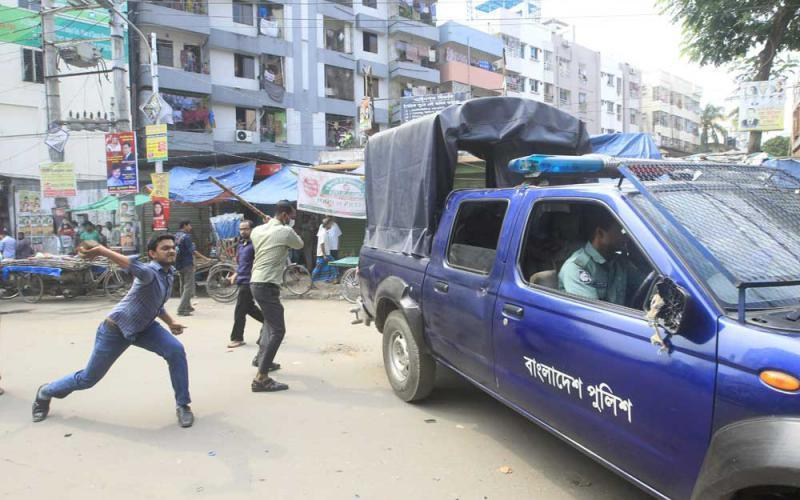policecar: (356, 95, 800, 498)
rickshaw: (206, 211, 312, 304)
wheelbarrow: (6, 257, 133, 305)
